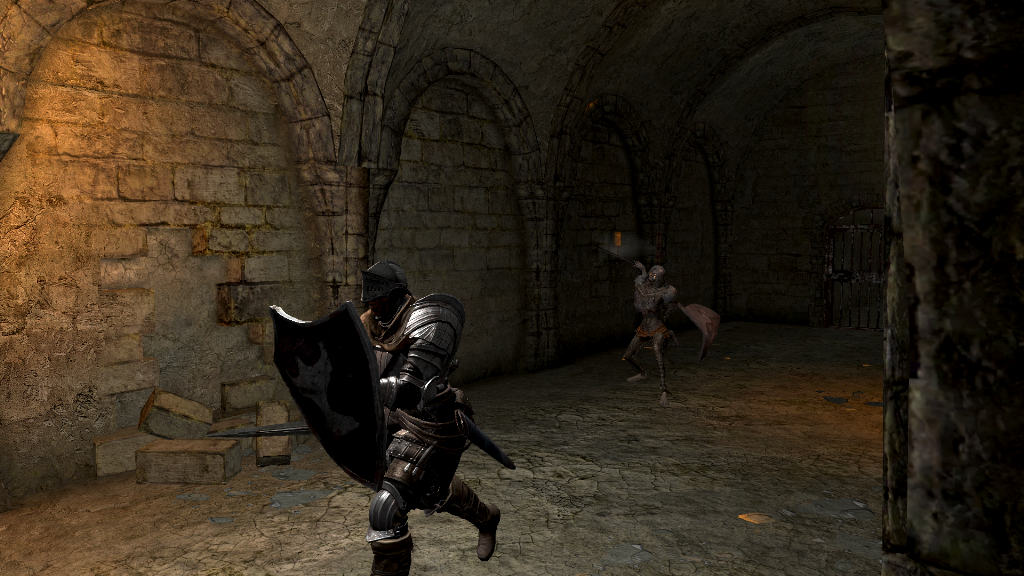player: (210, 259, 505, 576)
undeadSoldier: (622, 256, 681, 407)
